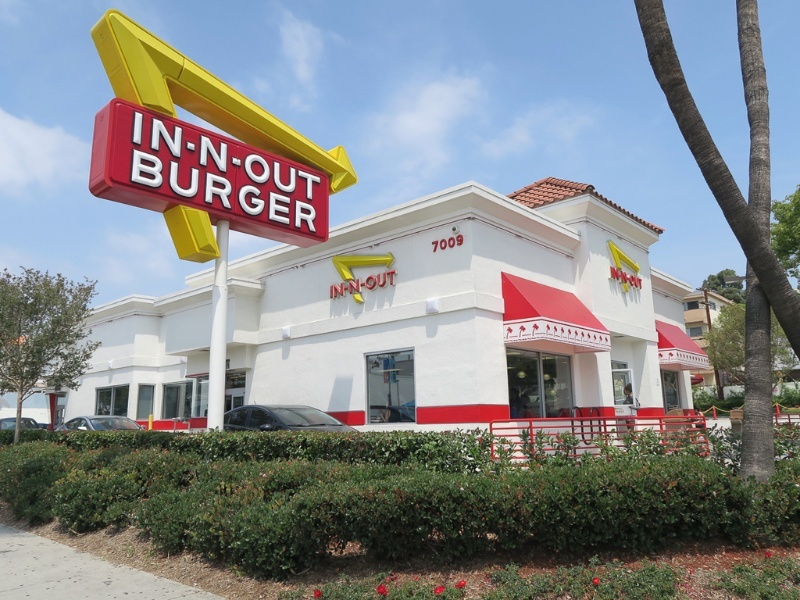text: (145, 148, 160, 233), (161, 148, 176, 233), (177, 148, 192, 233), (193, 148, 208, 233), (209, 148, 224, 233), (225, 148, 240, 233), (241, 148, 256, 233), (257, 148, 272, 233), (273, 148, 288, 233), (289, 148, 304, 233), (305, 148, 317, 233), (133, 148, 144, 233), (257, 150, 272, 201), (273, 150, 288, 201), (289, 150, 304, 201), (305, 150, 320, 201), (145, 111, 160, 159), (161, 111, 176, 159), (243, 150, 256, 201), (209, 134, 224, 173), (134, 111, 144, 159), (337, 269, 352, 300), (353, 269, 368, 300), (369, 269, 384, 300), (625, 265, 640, 290), (385, 269, 397, 300), (610, 265, 624, 290), (433, 233, 448, 253), (449, 233, 464, 253), (177, 111, 183, 159), (201, 134, 208, 173), (329, 269, 336, 300), (225, 134, 229, 173), (183, 139, 192, 152), (321, 150, 323, 201), (232, 156, 240, 168), (193, 139, 198, 152), (641, 265, 643, 290), (241, 156, 243, 168), (431, 233, 432, 253)
